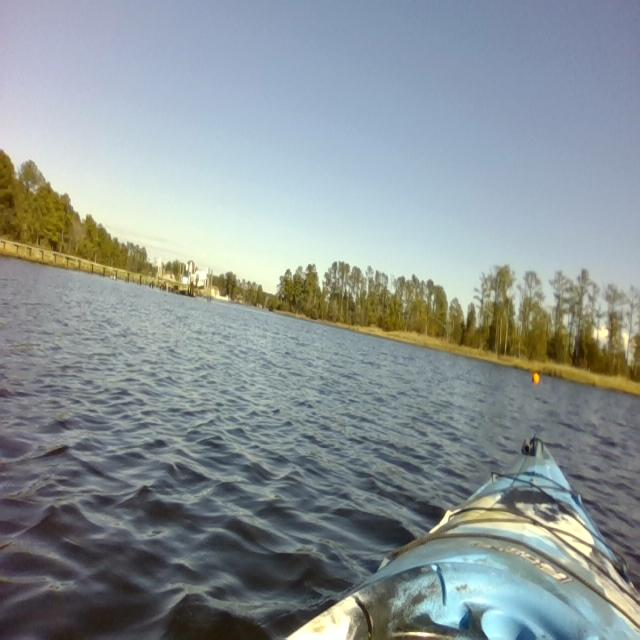Buoy: (528, 368, 544, 392)
